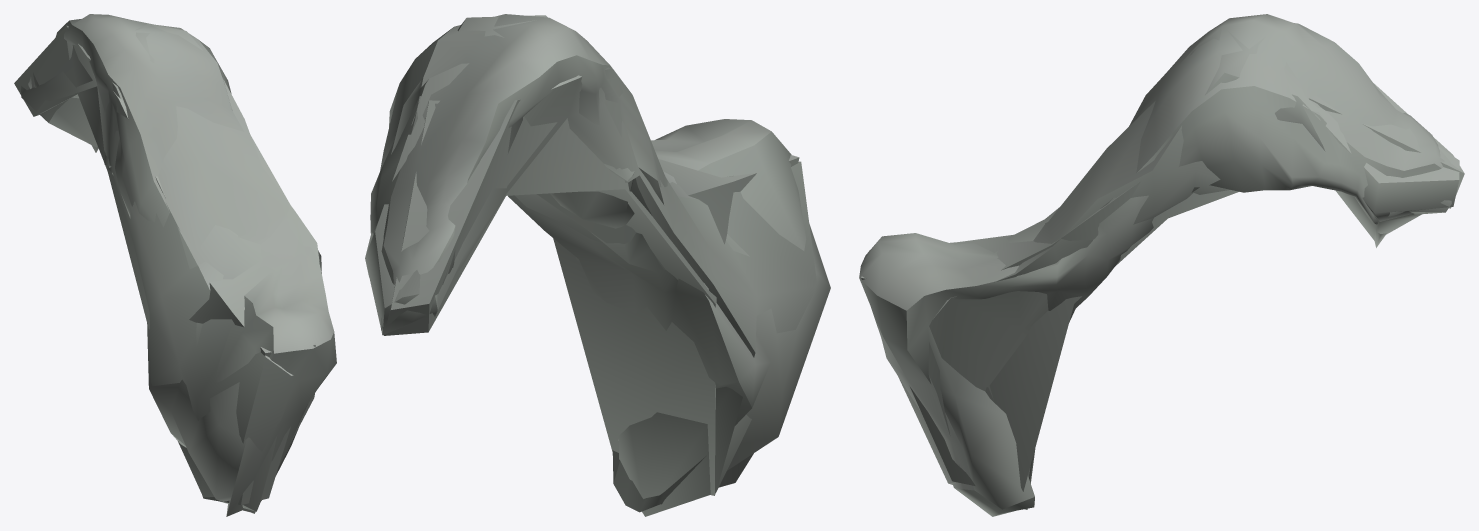
File: Env_stump01_LOD_Mesh.fbx
3 renders of one model, left to right at view 1: azimuth 30°, elevation 25°; view 2: azimuth 150°, elevation 25°; view 3: azimuth 270°, elevation 25°, orthographic. The views are drawn at different scales.
Visible parts, largest first — view 1: Env_stump01_LOD1_Mesh, Env_stump01_LOD2_Mesh, Env_stump01_LOD3_Mesh; view 2: Env_stump01_LOD1_Mesh, Env_stump01_LOD2_Mesh, Env_stump01_LOD3_Mesh; view 3: Env_stump01_LOD1_Mesh, Env_stump01_LOD2_Mesh, Env_stump01_LOD3_Mesh.
Part boxes in pixels (x1,y1,x2,y2): Env_stump01_LOD1_Mesh: [28, 14, 336, 516]; Env_stump01_LOD2_Mesh: [21, 19, 319, 511]; Env_stump01_LOD3_Mesh: [14, 25, 315, 504]; Env_stump01_LOD1_Mesh: [370, 14, 830, 512]; Env_stump01_LOD2_Mesh: [365, 15, 817, 516]; Env_stump01_LOD3_Mesh: [383, 77, 799, 495]; Env_stump01_LOD1_Mesh: [859, 14, 1451, 516]; Env_stump01_LOD2_Mesh: [871, 29, 1459, 509]; Env_stump01_LOD3_Mesh: [861, 83, 1464, 491].
Size of the model in its own units: 36.48 by 90.02 by 102.
